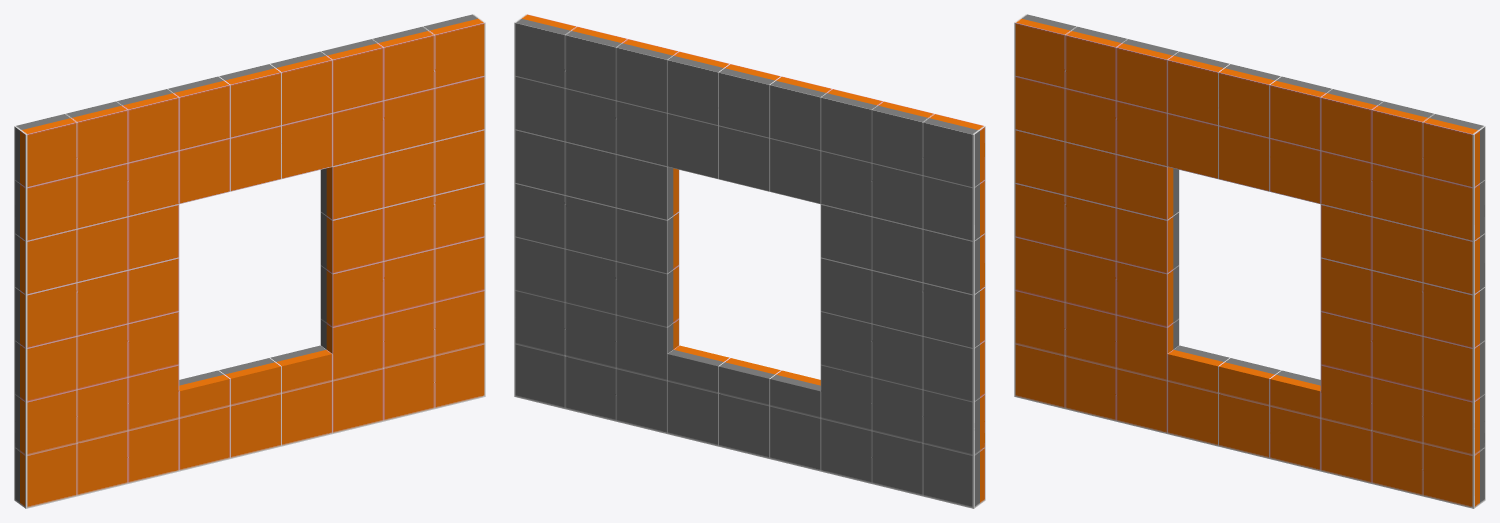
The model's file is M01WallWindowTypeE_1.FBX.
3 views of the same model, side by side, from view 1: azimuth 30°, elevation 25°; view 2: azimuth 150°, elevation 25°; view 3: azimuth 330°, elevation 25° (orthographic).
Visible parts, largest first — view 1: M01WallWindowTypeE_1; view 2: M01WallWindowTypeE_1; view 3: M01WallWindowTypeE_1.
Part boxes in pixels (x1,y1,x2,y2): M01WallWindowTypeE_1: [14, 14, 485, 508]; M01WallWindowTypeE_1: [514, 14, 985, 508]; M01WallWindowTypeE_1: [1014, 14, 1485, 508].
Size of what is drawn, in the model's own units: 4.5 by 3.5 by 0.2.
